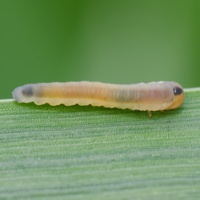insect: (12, 81, 183, 110)
